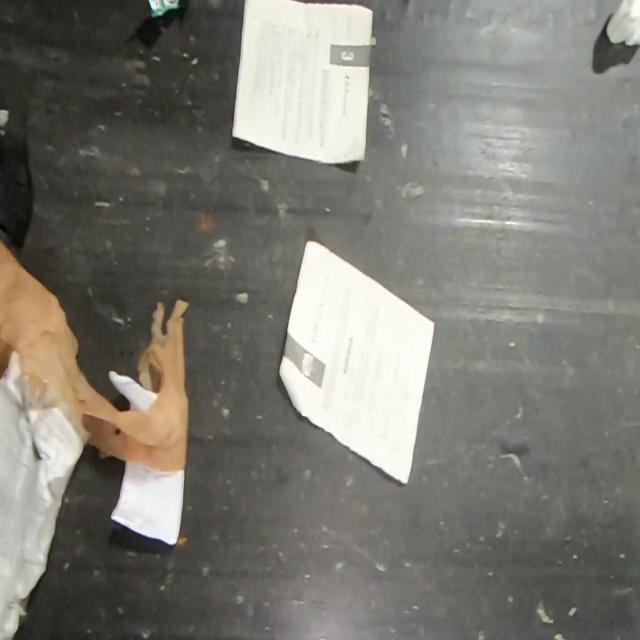soft_plastic: (0, 236, 191, 474)
